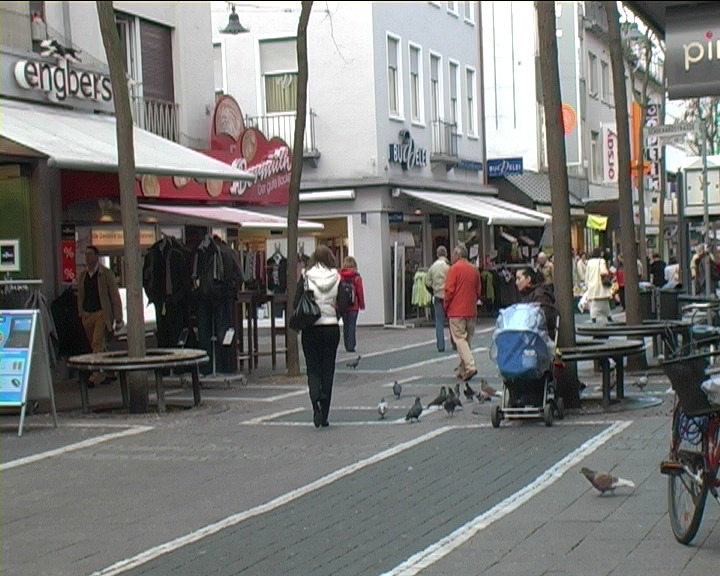undeflect: (295, 245, 348, 299)
